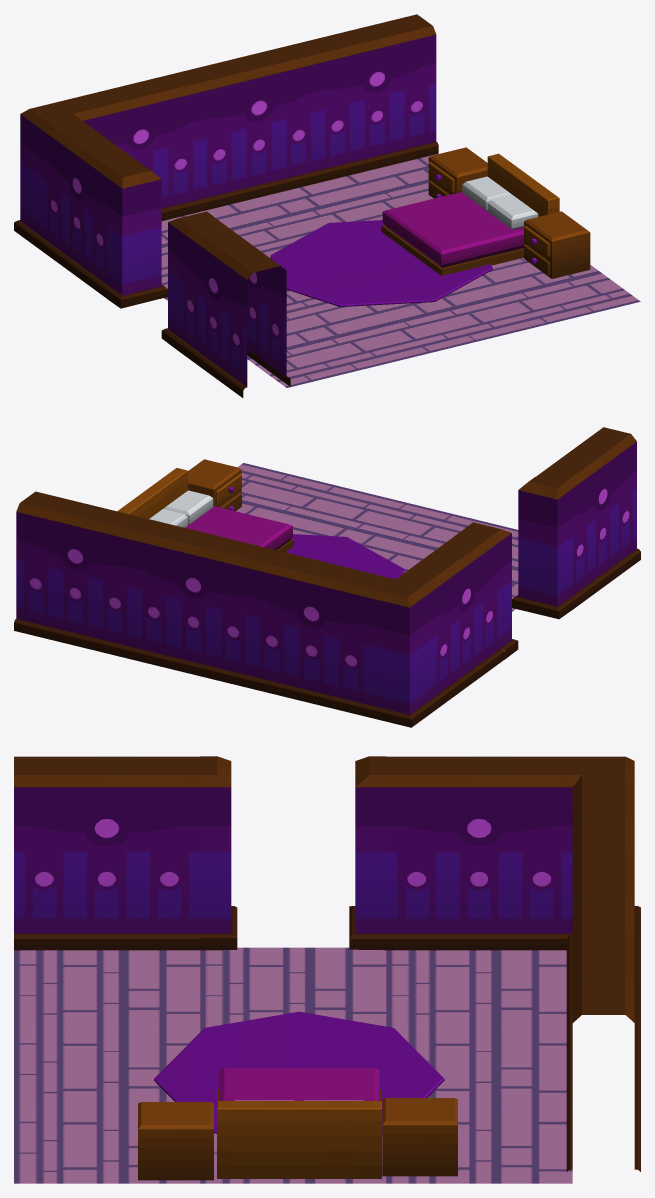
The model's file is Stage1_Bedroom2.fbx.
3 renders of one model, top to bottom at view 1: azimuth 30°, elevation 25°; view 2: azimuth 150°, elevation 25°; view 3: azimuth 270°, elevation 25°, orthographic. The views are drawn at different scales.
Parts seen in each view (by area): view 1: Floor_v4.001; view 2: Floor_v4.001; view 3: Floor_v4.001.
Boxes of the visible parts, x1,y1,x2,y2 form: Floor_v4.001: [14, 14, 640, 397]; Floor_v4.001: [14, 427, 640, 727]; Floor_v4.001: [14, 756, 640, 1183].
Bounding box in the file's own units: 1010 × 300 × 1010.
